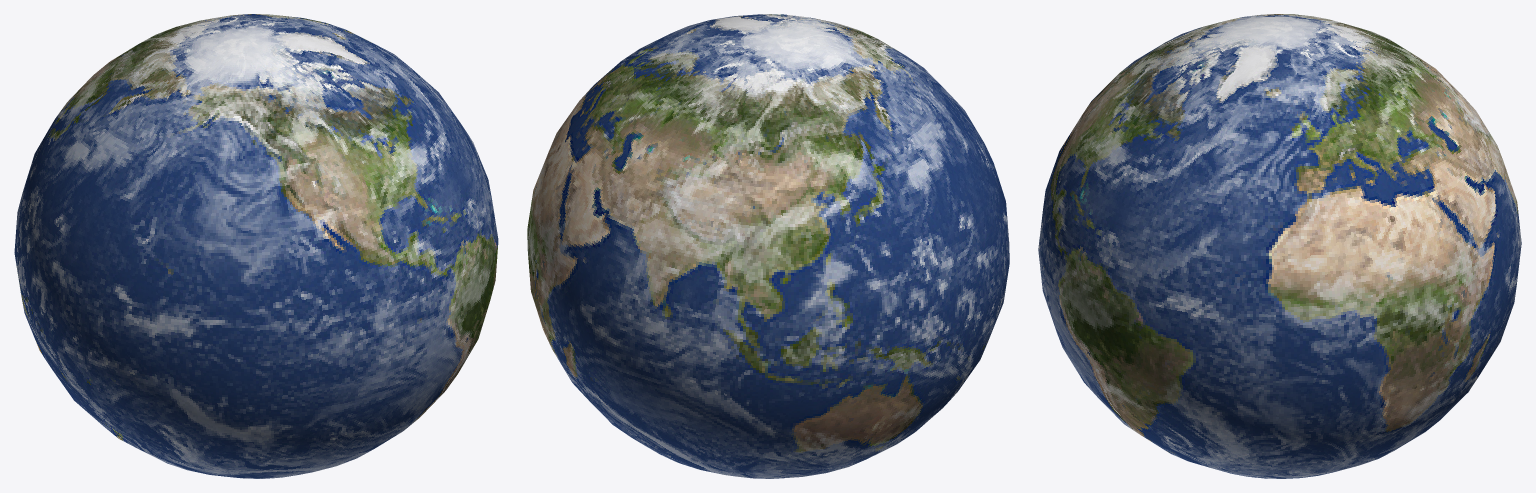
The model's file is earth.glb.
The picture shows the model from 3 angles, left to right: view 1: azimuth 30°, elevation 25°; view 2: azimuth 150°, elevation 25°; view 3: azimuth 270°, elevation 25°; orthographic projection.
Parts seen in each view (by area): view 1: earth; view 2: earth; view 3: earth.
Part boxes in pixels (x1,y1,x2,y2): earth: [14, 14, 498, 478]; earth: [527, 14, 1009, 478]; earth: [1038, 14, 1521, 478].
Bounding box in the file's own units: 12.75 × 12.18 × 12.76.
Materials: 1 (1 with a texture image).
